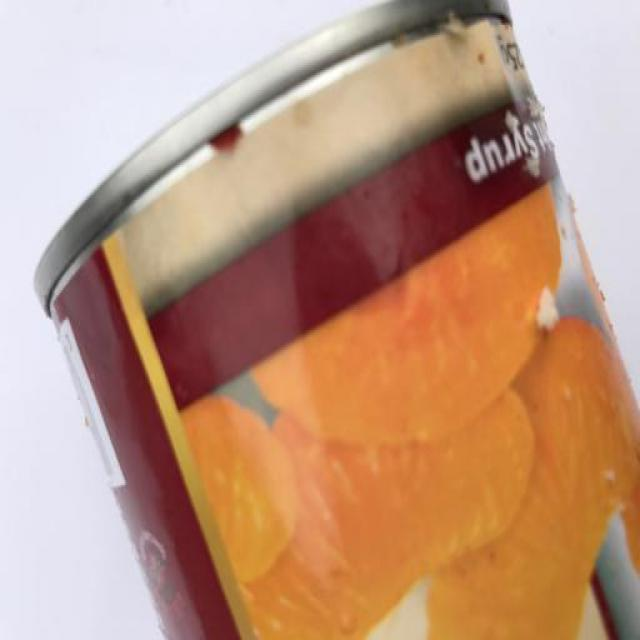metel: (10, 1, 640, 640)
